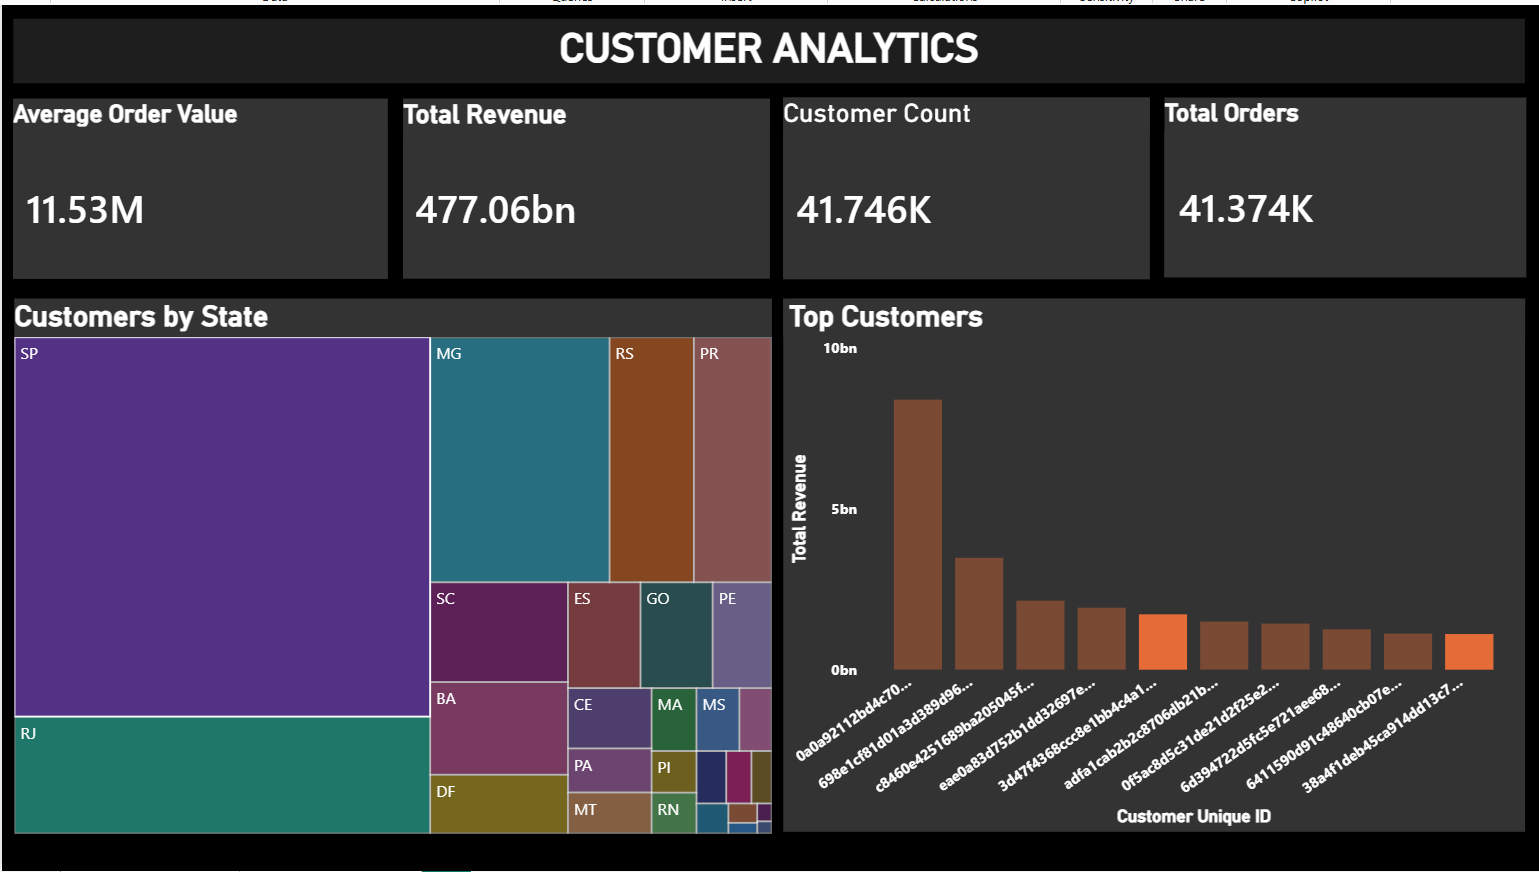

The dashboard page shown, as its layout file describes it:
{"tool":"powerbi","page":{"name":"Customer Analytics","canvas":[1280,720],"ordinal":1},"visuals":[{"type":"textbox","box":[9.6,11,1257,53.5],"z":0},{"type":"cardVisual","title":"Average Order Value","fields":{"Data":["DIM_CUSTOMERS.Average Order Value"]},"box":[9.6,78.2,311.5,149.6],"z":1000},{"type":"cardVisual","title":"Customer Count","fields":{"Data":["DIM_CUSTOMERS.Customer Count"]},"box":[649.1,76.8,304.6,150.9],"z":2000},{"type":"cardVisual","title":"Total Orders","fields":{"Data":["DIM_CUSTOMERS.Total Orders"]},"box":[966,76.8,300.5,149.6],"z":3000},{"type":"cardVisual","title":"Total Revenue","fields":{"Data":["DIM_CUSTOMERS.Total Revenue"]},"box":[333.4,78.2,304.6,149.6],"z":4000},{"type":"treemap","title":"Customers by State","fields":{"Group":["DIM_CUSTOMERS.CUSTOMER_STATE"],"Values":["DIM_CUSTOMERS.Customer Count"]},"box":[9.9,244.4,629.5,444.8],"z":5000},{"type":"columnChart","title":"Top Customers","fields":{"Y":["DIM_CUSTOMERS.Total Revenue"],"Category":["DIM_CUSTOMERS.CUSTOMER_UNIQUE_ID"]},"box":[649.4,244.4,616.7,443.3],"z":6000}]}

Visuals, with their boxes in screenshot pixels (x1, y1, x2, y2), scaled from the page's 1280x720 canvas onto the 1539x872 screenshot:
textbox: bbox=(12, 13, 1523, 78)
"Average Order Value" cardVisual: bbox=(12, 95, 386, 276)
"Customer Count" cardVisual: bbox=(780, 93, 1147, 276)
"Total Orders" cardVisual: bbox=(1161, 93, 1523, 274)
"Total Revenue" cardVisual: bbox=(401, 95, 767, 276)
"Customers by State" treemap: bbox=(12, 296, 769, 835)
"Top Customers" columnChart: bbox=(781, 296, 1522, 833)
